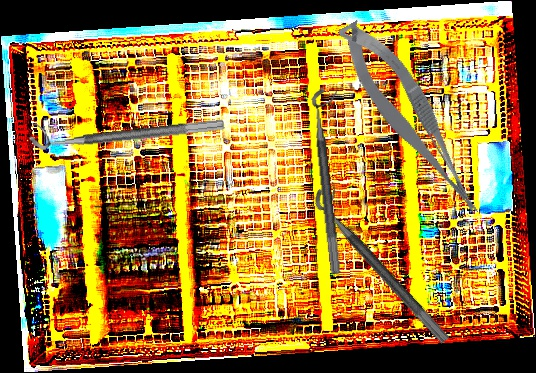Fixation Ring: (308, 178, 463, 346), (27, 102, 225, 152), (310, 85, 356, 275)
Micro Scissor: (331, 8, 489, 232)
